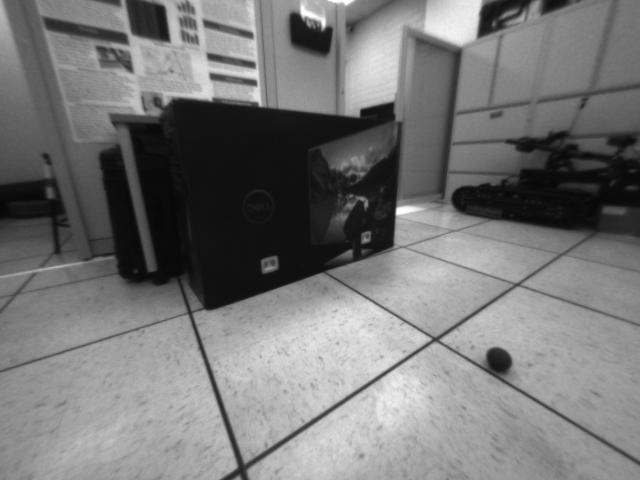dogtoy: (481, 344, 516, 376)
